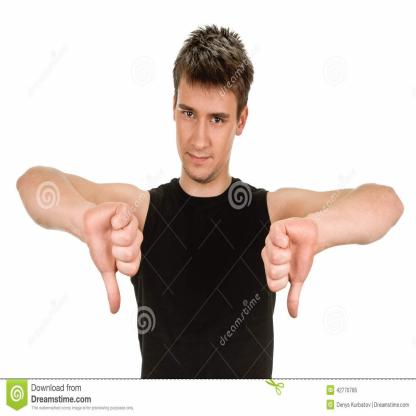Thumbs-Down: (85, 201, 145, 316), (260, 214, 319, 319)
